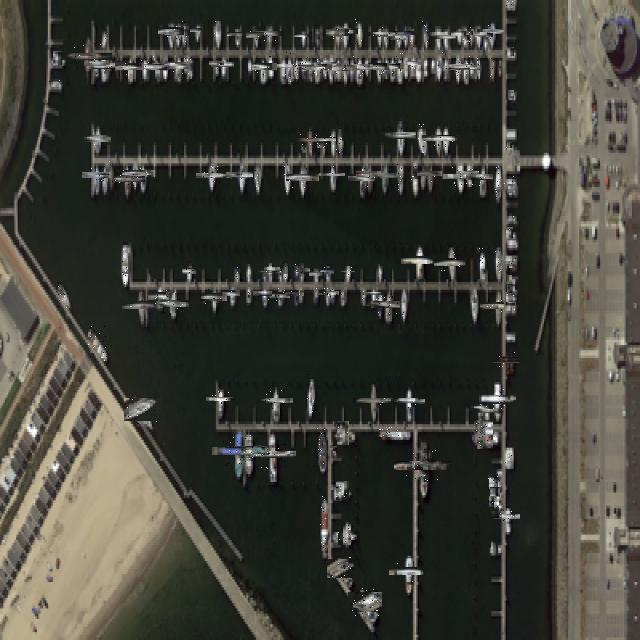boat: (406, 449, 439, 483), (223, 435, 254, 466), (127, 394, 158, 425), (256, 440, 286, 469), (72, 42, 102, 71), (86, 324, 108, 361), (352, 588, 379, 616), (330, 556, 355, 582), (235, 438, 261, 463), (361, 388, 385, 412), (484, 387, 508, 411), (407, 249, 430, 272), (115, 168, 138, 190), (396, 560, 418, 583), (474, 423, 496, 446), (129, 294, 151, 317), (264, 390, 286, 411), (388, 125, 410, 146), (487, 294, 508, 316), (292, 168, 313, 188), (440, 252, 461, 272), (378, 294, 398, 314), (398, 392, 418, 412), (164, 293, 184, 313), (56, 282, 70, 308), (472, 167, 491, 186), (232, 166, 251, 184), (336, 524, 354, 543), (334, 424, 352, 443), (300, 130, 318, 149), (450, 167, 468, 186), (349, 58, 368, 76), (320, 58, 339, 76), (253, 58, 272, 76), (88, 129, 106, 148), (120, 58, 139, 76), (120, 242, 128, 284), (317, 426, 325, 468), (202, 166, 220, 184), (375, 166, 393, 184), (456, 58, 474, 76), (308, 58, 326, 76), (87, 166, 105, 184), (378, 427, 410, 437), (320, 495, 326, 548), (493, 161, 501, 200), (353, 169, 370, 187), (428, 130, 446, 147), (436, 130, 454, 147), (307, 374, 314, 416), (162, 23, 179, 40), (205, 289, 222, 306), (211, 391, 229, 407), (134, 166, 151, 182), (126, 166, 143, 182), (334, 483, 351, 499), (483, 23, 499, 40), (337, 23, 353, 40), (336, 60, 352, 77), (169, 58, 186, 74), (94, 58, 111, 74), (324, 166, 340, 182), (360, 166, 376, 182), (371, 295, 387, 311), (499, 508, 515, 524), (449, 58, 465, 74), (383, 58, 399, 74), (262, 26, 277, 42), (324, 132, 340, 147), (422, 166, 437, 182), (499, 353, 514, 369), (370, 59, 385, 75), (330, 25, 345, 41), (275, 58, 290, 74), (170, 25, 185, 41), (151, 289, 167, 304), (470, 287, 477, 321), (494, 245, 501, 279), (418, 124, 426, 153), (149, 60, 165, 74), (283, 161, 290, 192), (478, 248, 485, 279), (504, 352, 518, 367), (318, 57, 332, 72), (302, 57, 316, 72), (216, 57, 230, 72), (400, 287, 406, 321), (272, 288, 286, 302), (411, 164, 418, 192), (397, 26, 411, 40), (296, 56, 310, 70), (110, 56, 124, 70), (88, 56, 102, 70), (355, 18, 362, 45), (214, 18, 221, 45), (397, 161, 403, 192), (101, 161, 107, 192), (504, 443, 512, 466), (461, 166, 475, 179), (479, 404, 492, 418), (488, 496, 501, 510), (439, 30, 452, 44), (435, 53, 442, 79), (395, 53, 402, 79), (157, 58, 171, 71), (285, 52, 291, 82), (263, 262, 276, 275), (253, 164, 259, 192), (473, 401, 485, 415), (414, 55, 421, 79), (405, 57, 419, 69), (379, 27, 391, 41), (331, 59, 343, 73), (139, 59, 151, 73), (336, 126, 342, 153), (289, 287, 301, 300), (487, 476, 500, 488), (471, 28, 484, 40), (431, 28, 444, 40), (422, 21, 428, 47), (372, 28, 385, 40), (348, 53, 354, 79), (249, 29, 261, 42), (108, 161, 114, 187), (257, 287, 269, 300), (225, 287, 237, 300), (230, 28, 242, 40), (181, 21, 187, 45), (51, 52, 63, 64), (48, 76, 61, 87), (382, 53, 388, 76), (183, 266, 195, 277), (296, 264, 307, 276), (326, 288, 338, 299), (366, 288, 378, 299), (478, 30, 490, 41), (442, 52, 448, 74), (422, 52, 428, 74), (393, 31, 404, 43), (100, 26, 106, 48), (244, 282, 250, 303), (321, 288, 332, 299), (489, 541, 500, 552), (504, 300, 515, 311), (297, 30, 308, 41), (459, 27, 469, 39), (292, 56, 298, 76), (419, 161, 424, 184), (267, 53, 272, 76), (246, 55, 252, 74), (322, 266, 332, 277), (490, 487, 500, 498), (504, 174, 515, 184), (453, 29, 464, 39), (490, 55, 494, 82), (468, 24, 474, 42), (504, 256, 517, 264), (259, 266, 269, 276), (311, 269, 321, 279), (475, 56, 480, 76), (211, 58, 221, 68), (292, 264, 298, 280), (363, 55, 368, 74), (187, 55, 192, 74), (402, 53, 406, 76), (342, 267, 352, 276), (506, 284, 516, 293), (505, 228, 514, 238), (506, 184, 516, 193), (504, 210, 515, 218), (505, 292, 514, 301), (506, 89, 515, 98), (506, 47, 515, 56), (339, 287, 344, 303), (504, 332, 514, 340), (506, 240, 516, 248), (314, 24, 318, 44), (107, 55, 112, 71), (276, 268, 284, 277), (282, 261, 286, 279), (318, 142, 327, 150), (192, 26, 200, 35), (246, 264, 250, 280), (505, 275, 513, 283), (509, 260, 517, 268), (506, 0, 514, 8), (430, 55, 434, 71), (182, 52, 186, 68), (469, 55, 472, 74), (314, 287, 318, 300), (330, 446, 337, 452), (410, 24, 412, 44), (362, 284, 364, 303), (498, 55, 500, 74), (506, 142, 512, 148), (298, 284, 300, 300), (378, 264, 380, 280), (344, 537, 349, 543), (320, 548, 326, 553), (300, 145, 306, 150), (463, 38, 468, 44), (236, 266, 238, 279), (152, 50, 155, 58), (104, 161, 108, 166), (411, 43, 415, 47)
